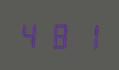eight: (46, 19, 72, 50)
four: (18, 19, 44, 49)
one: (73, 20, 99, 50)
